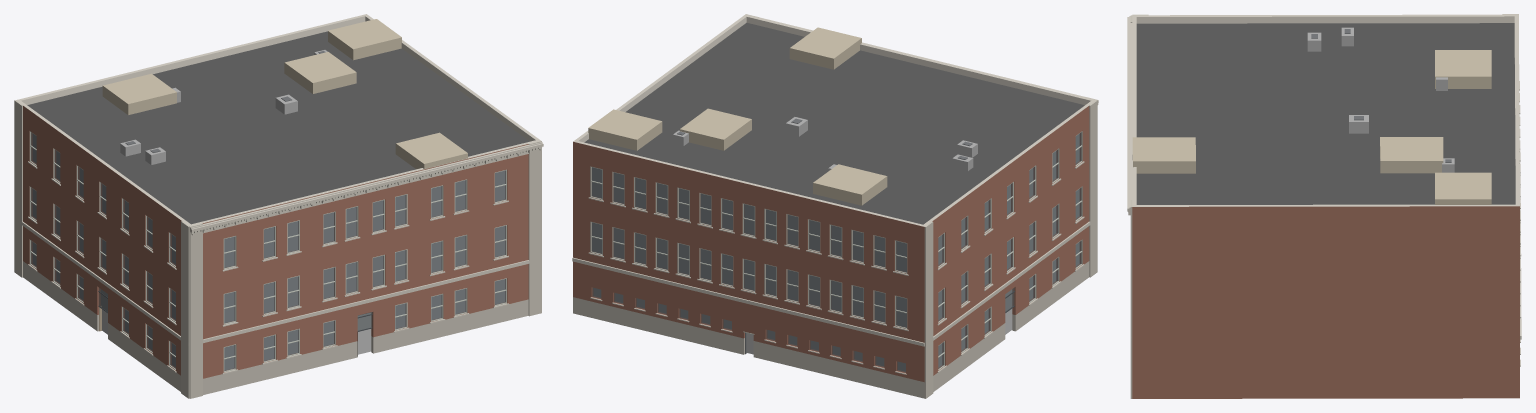
File: exterior.glb
The picture shows the model from 3 angles, left to right: view 1: azimuth 30°, elevation 25°; view 2: azimuth 150°, elevation 25°; view 3: azimuth 270°, elevation 25°; orthographic projection. The views are drawn at different scales.
Visible parts, largest first — view 1: shell, roof, glazing, shadow-proxy, relief-3, trim, relief-2, frames, rooftop-units, front-dressing; view 2: shell, roof, glazing, shadow-proxy, relief-2, frames, trim, relief-3, rooftop-units; view 3: shell, roof, relief-2, relief-3, trim, rooftop-units.
Part boxes in pixels (bbox=[...]): shell: bbox=[16, 14, 540, 394]; roof: bbox=[27, 31, 529, 224]; glazing: bbox=[31, 132, 505, 370]; shadow-proxy: bbox=[33, 134, 504, 370]; relief-3: bbox=[102, 19, 541, 398]; trim: bbox=[22, 142, 543, 374]; relief-2: bbox=[14, 52, 467, 398]; frames: bbox=[29, 131, 506, 372]; rooftop-units: bbox=[120, 50, 327, 164]; front-dressing: bbox=[191, 147, 540, 233]; shell: bbox=[573, 14, 1095, 398]; roof: bbox=[584, 22, 1084, 224]; glazing: bbox=[591, 132, 1081, 372]; shadow-proxy: bbox=[592, 134, 1079, 371]; relief-2: bbox=[680, 27, 1097, 398]; frames: bbox=[590, 131, 1082, 370]; trim: bbox=[572, 17, 1098, 374]; relief-3: bbox=[588, 14, 1096, 205]; rooftop-units: bbox=[673, 117, 977, 171]; shell: bbox=[1132, 14, 1519, 398]; roof: bbox=[1136, 23, 1515, 204]; relief-2: bbox=[1132, 14, 1518, 173]; relief-3: bbox=[1130, 15, 1491, 398]; trim: bbox=[1127, 16, 1521, 366]; rooftop-units: bbox=[1307, 27, 1454, 172].
Bounding box in the file's own units: 36.18 × 17.3 × 31.25.
